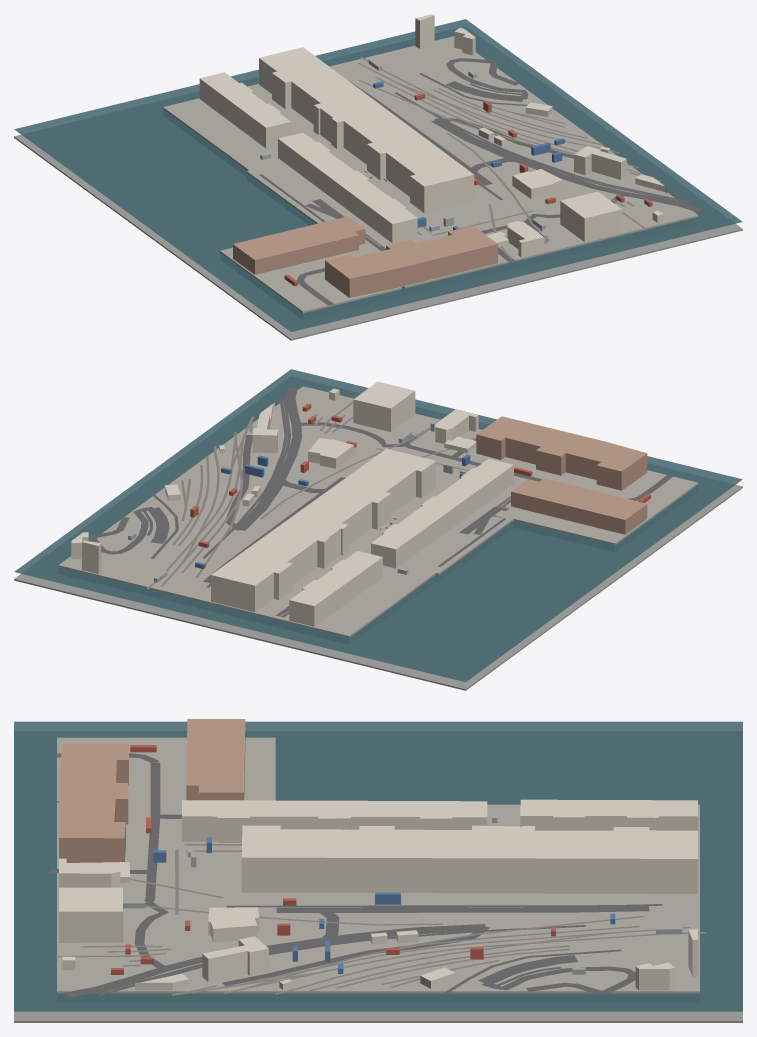
File: render.glb
The picture shows the model from 3 angles, top to bottom: view 1: azimuth 30°, elevation 25°; view 2: azimuth 150°, elevation 25°; view 3: azimuth 270°, elevation 25°; orthographic projection. The views are drawn at different scales.
Visible parts, largest first — view 1: water_sea, ground_land_0, bld_000_yes, bld_016_21, seabed, roads, rails, blk_containerBlue_00_0, blk_containerRed_01_0, blk_containerGrey_04_0; view 2: water_sea, ground_land_0, bld_000_yes, bld_016_21, seabed, roads, rails, blk_containerRed_01_0, blk_containerBlue_00_0; view 3: water_sea, bld_000_yes, ground_land_0, seabed, roads, bld_016_21, rails, blk_containerRed_01_0, blk_containerBlue_00_0, blk_containerGrey_04_0.
Boxes of the visible parts, x1,y1,x2,y2 form: water_sea: (14, 19, 742, 331); ground_land_0: (163, 36, 698, 318); bld_000_yes: (199, 14, 667, 257); bld_016_21: (233, 216, 497, 297); seabed: (14, 29, 742, 340); roads: (259, 58, 702, 305); rails: (357, 56, 661, 259); blk_containerBlue_00_0: (373, 81, 564, 230); blk_containerRed_01_0: (284, 93, 652, 286); blk_containerGrey_04_0: (260, 59, 547, 243); water_sea: (14, 369, 742, 682); ground_land_0: (58, 386, 698, 637); bld_000_yes: (71, 381, 513, 626); bld_016_21: (476, 416, 647, 534); seabed: (14, 377, 742, 690); roads: (89, 387, 673, 617); rails: (146, 401, 510, 616); blk_containerRed_01_0: (190, 403, 650, 547); blk_containerBlue_00_0: (195, 454, 470, 568); water_sea: (14, 721, 742, 1011); bld_000_yes: (59, 799, 697, 990); ground_land_0: (57, 737, 699, 1002); seabed: (14, 731, 742, 1022); roads: (50, 753, 662, 997); bld_016_21: (59, 719, 245, 862); rails: (56, 817, 705, 995); blk_containerRed_01_0: (111, 745, 555, 974); blk_containerBlue_00_0: (153, 837, 615, 973); blk_containerGrey_04_0: (123, 812, 682, 974).
Size of the model in its own units: 320 by 26 by 340.
